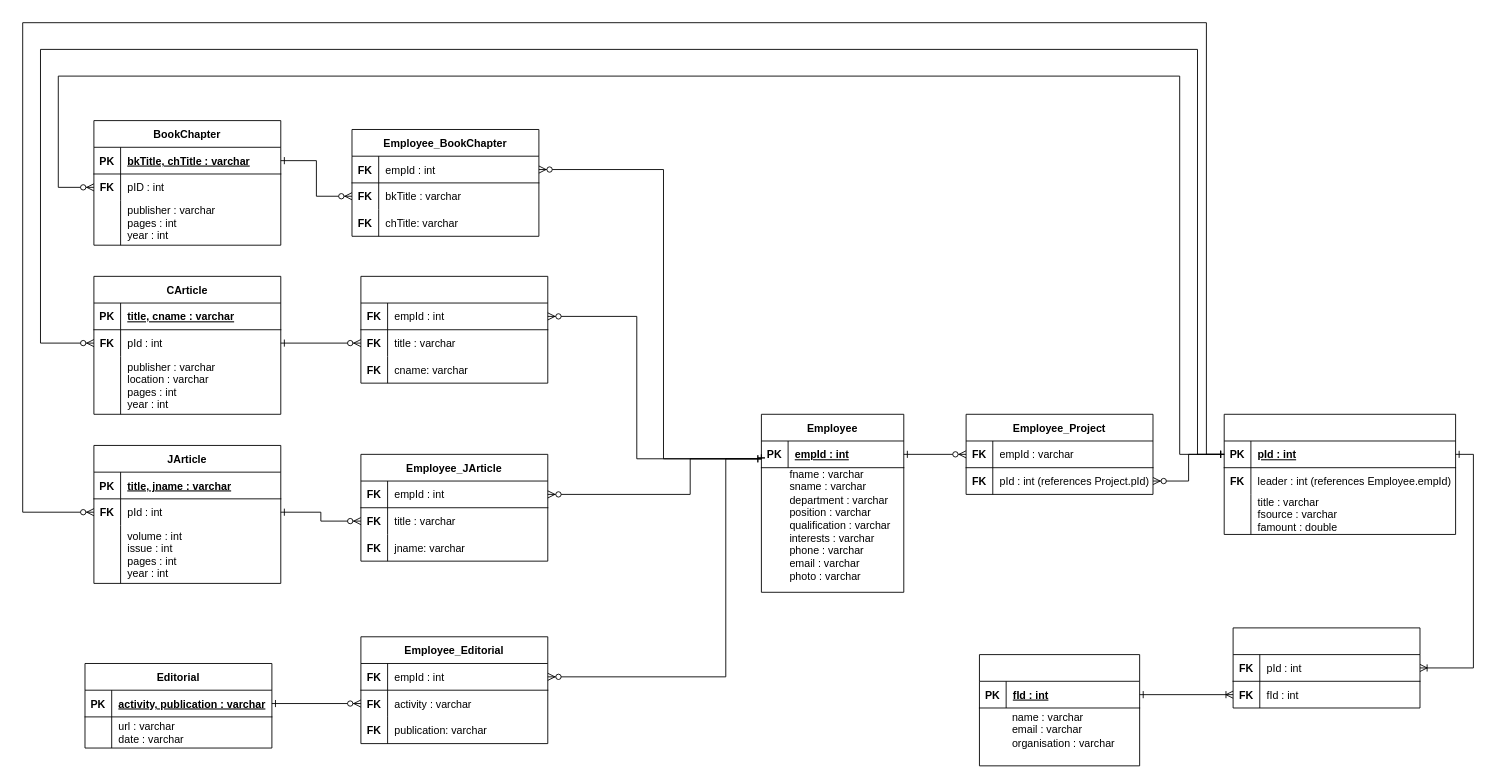
The diagram is 1497 pixels wide and 781 high, and some of its shapes have lost their labels. The box of each missing label's shape, as (x1, y1, x2, y2) in pixels:
Employee_CArticle: (360, 275, 548, 383)
Funder: (979, 654, 1140, 766)
Project: (1223, 413, 1456, 534)
Project_Funder: (1232, 627, 1420, 708)
